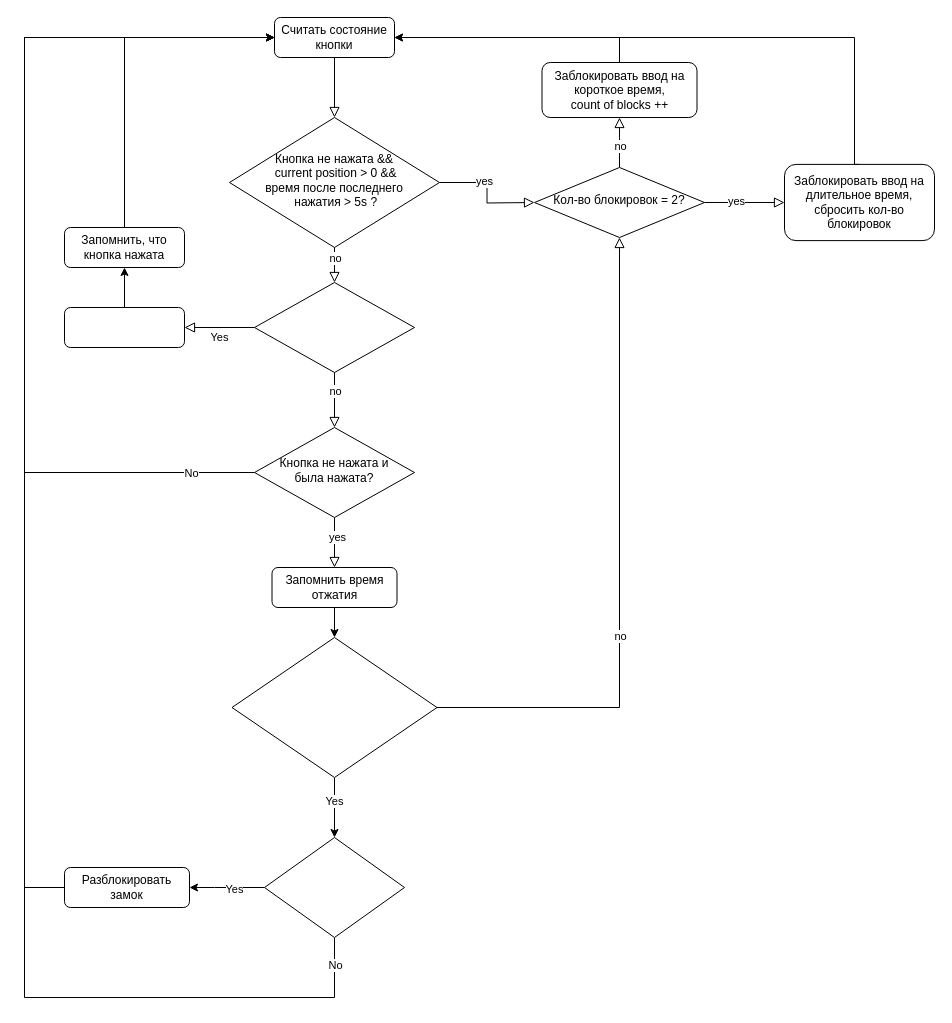
This 952x1023 diagram has some shape labels left out. The shapes that lost their labels are listed below. From the top down, each one's box as (x1, y1, x2, y2) in pixels, then its label:
(64, 306, 184, 348): Запомнить время нажатия
(254, 282, 414, 372): Кнопка нажата и не была нажата?
(231, 636, 437, 778): соответствует ли длительность нажатия длительности из пароля?
(264, 836, 404, 938): Введён последний символ пароля?
